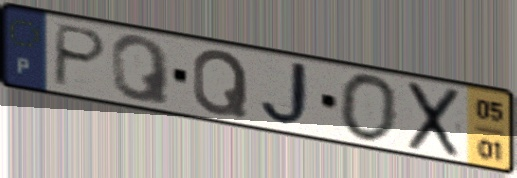J: (258, 59, 317, 130)
O: (336, 70, 401, 145)
P: (49, 21, 111, 90)
Q: (109, 34, 174, 108), (189, 48, 251, 119)
X: (404, 79, 464, 160)
